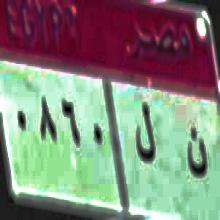0: (88, 116, 110, 170), (15, 98, 30, 146)
6: (61, 95, 81, 151)
8: (36, 94, 59, 148)
laam: (133, 103, 158, 173)
noon: (181, 118, 209, 187)
